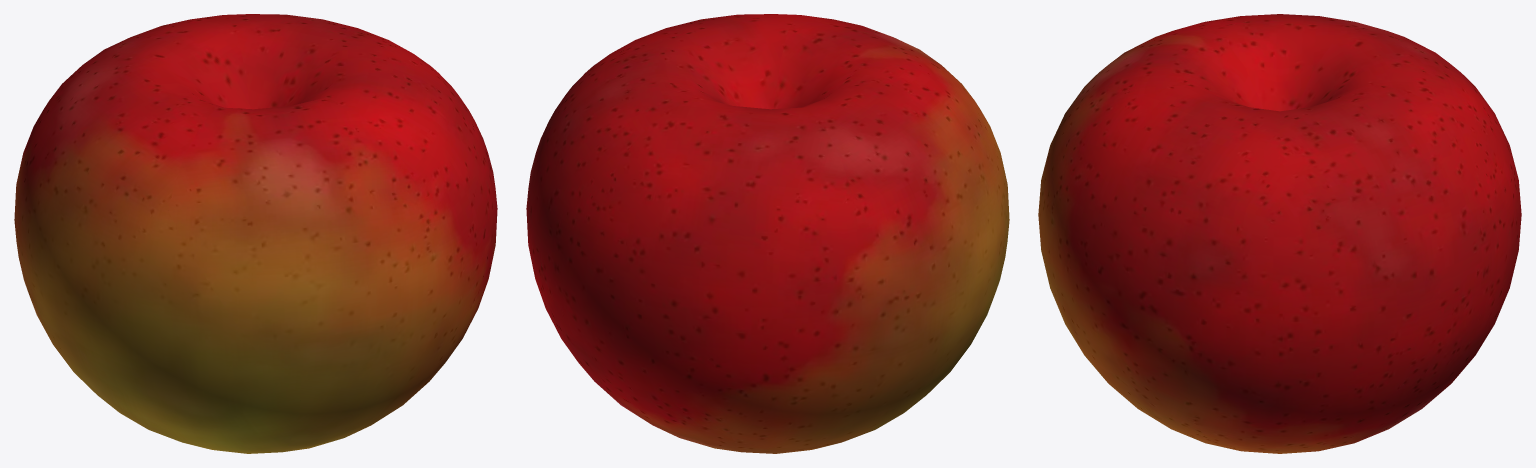
The picture shows the model from 3 angles, left to right: view 1: azimuth 30°, elevation 25°; view 2: azimuth 150°, elevation 25°; view 3: azimuth 270°, elevation 25°; orthographic projection.
Parts seen in each view (by area): view 1: Icosphere; view 2: Icosphere; view 3: Icosphere.
Part boxes in pixels (x1,y1,x2,y2): Icosphere: (14, 14, 497, 453); Icosphere: (526, 14, 1009, 453); Icosphere: (1038, 14, 1521, 453).
Bounding box in the file's own units: 2 × 1.57 × 2.
Materials: 1 (1 with a texture image).
